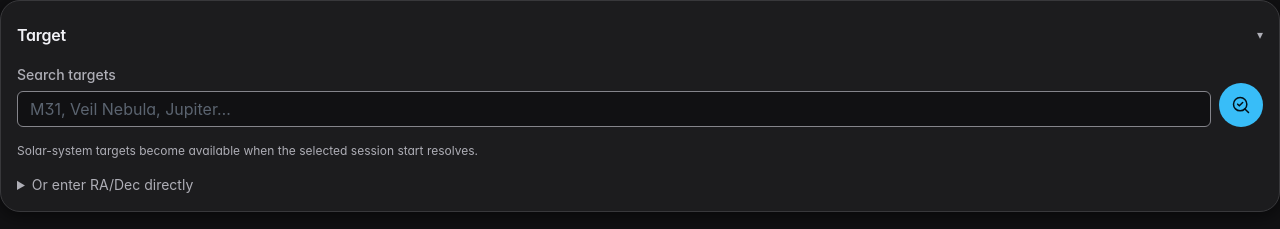
Scenario: TargetPicker › announces a clear no-result state
The image size is (1280, 229).
Type "xyzzy" into the dropdown labelled "Search targets" at (614, 109), box [17,91,1211,127]
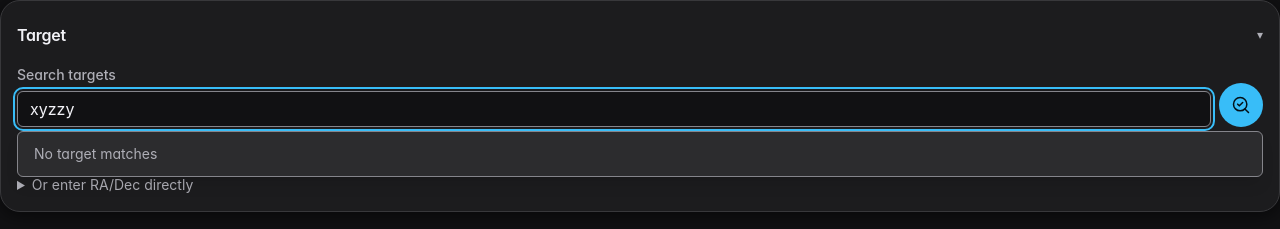
Result: the text "No target matches" is shown at [34,145,157,162]
